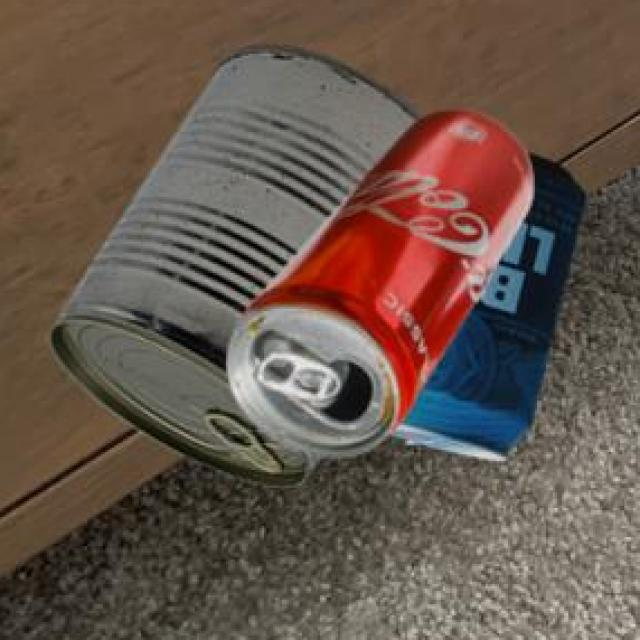logam: (46, 44, 420, 482), (223, 109, 529, 453), (386, 151, 583, 458)
